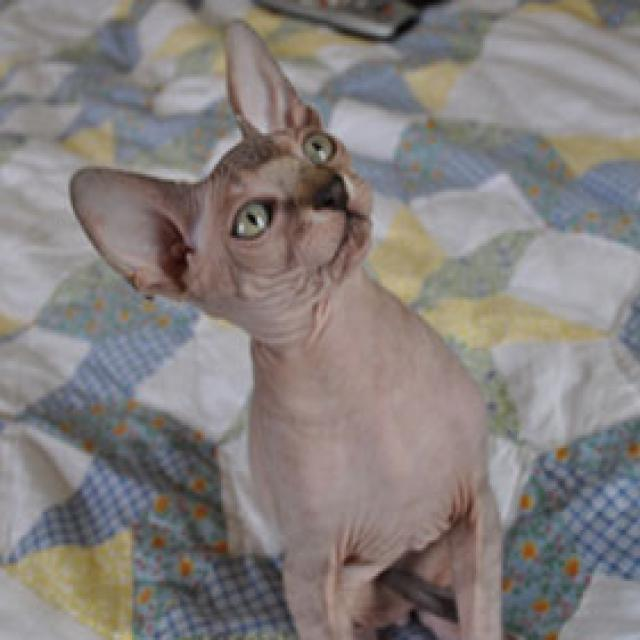Sphynx: (65, 13, 379, 347)
